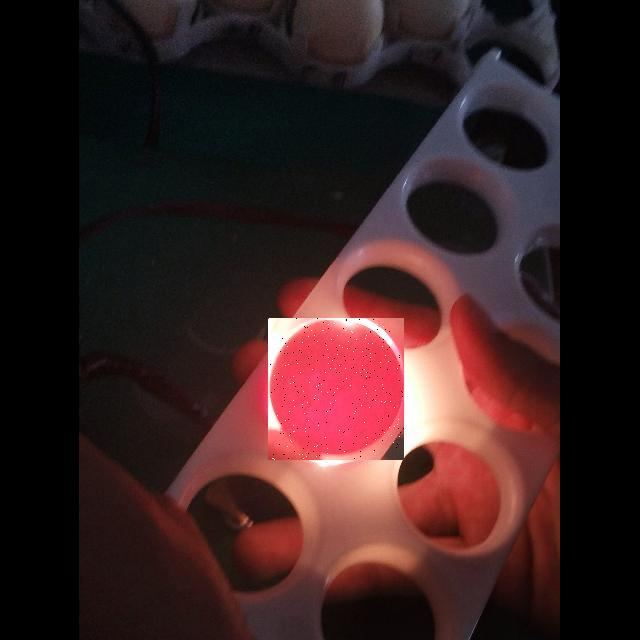Infertile: (268, 318, 404, 460)
